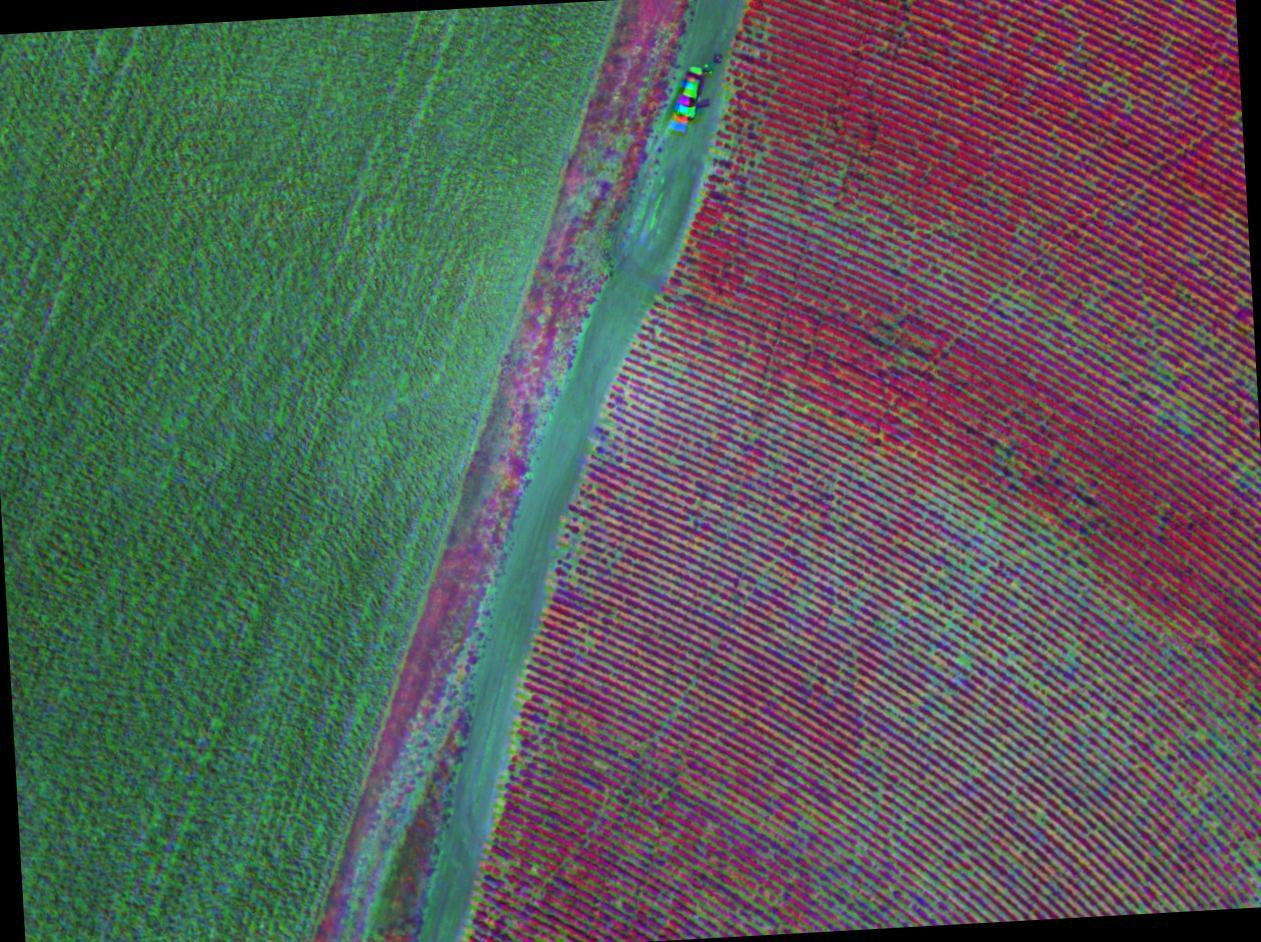dc: (714, 152, 719, 158), (571, 560, 576, 565), (669, 457, 674, 461), (992, 501, 996, 506), (1020, 549, 1024, 554), (1014, 582, 1019, 586), (876, 793, 880, 798), (856, 893, 861, 897), (900, 357, 904, 361), (960, 660, 964, 664), (803, 408, 806, 413)
